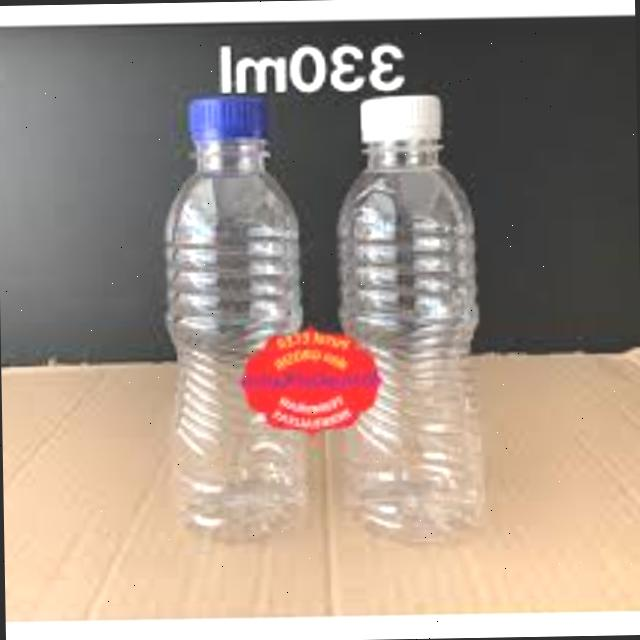trash: (319, 84, 486, 552), (158, 89, 316, 550)
